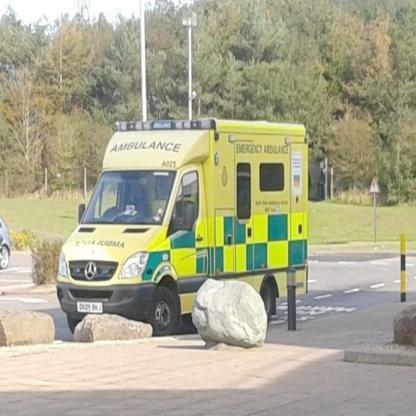Ambulance: (55, 115, 310, 336)
